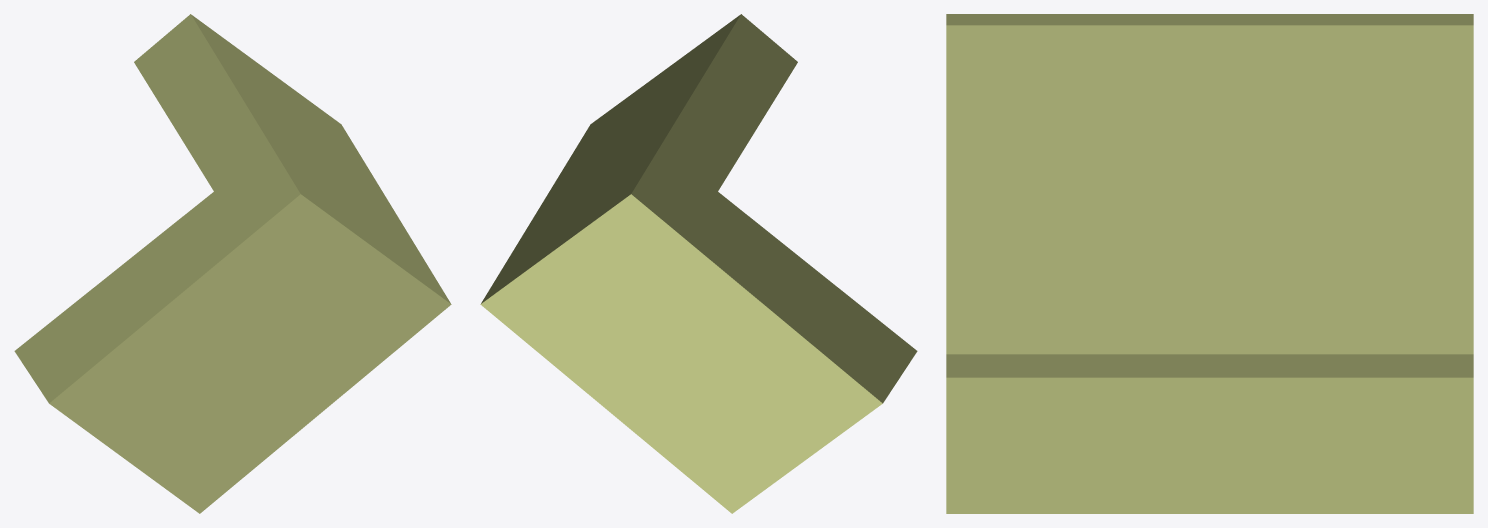
3 views of the same model, side by side, from view 1: azimuth 30°, elevation 25°; view 2: azimuth 150°, elevation 25°; view 3: azimuth 270°, elevation 25° (orthographic). The views are drawn at different scales.
Visible parts, largest first — view 1: 0_1_2_0_3_3_0_2_2_2_2; view 2: 0_1_2_0_3_3_0_2_2_2_2; view 3: 0_1_2_0_3_3_0_2_2_2_2.
Part boxes in pixels (x1=…): 0_1_2_0_3_3_0_2_2_2_2: x1=14, y1=14, x2=451, y2=513; 0_1_2_0_3_3_0_2_2_2_2: x1=480, y1=14, x2=917, y2=513; 0_1_2_0_3_3_0_2_2_2_2: x1=946, y1=14, x2=1473, y2=513.
Bounding box in the file's own units: 9.87 × 11.69 × 9.
